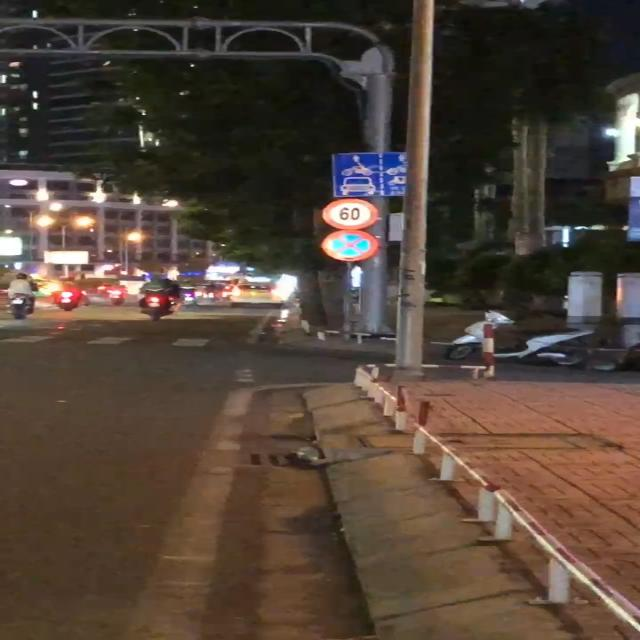Bien bao cam dung xe va do xe: (317, 228, 386, 262)
Bien bao toc do toi da cho phep: (317, 197, 382, 229)
